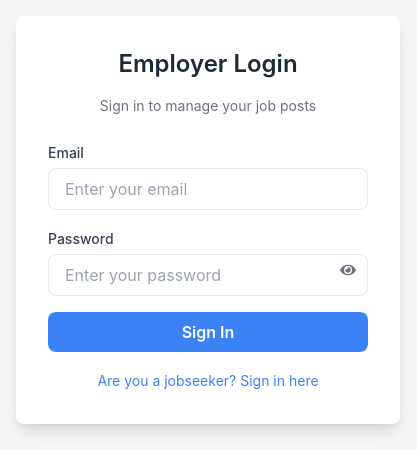
it: EmployerLogin Component › disables form inputs during loading state
Fill in the form
Type "employer@example.com" into the field with placeholder "Enter your email" at (208, 189), box [48,168,368,210]
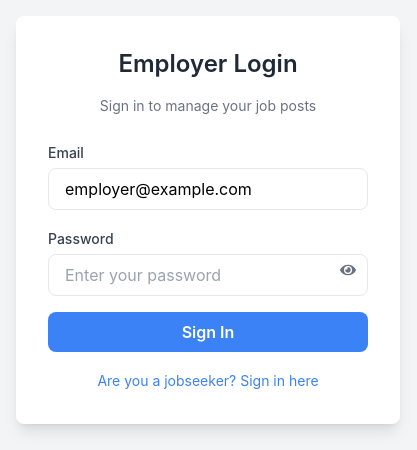
Type "Password123" into the password field with placeholder "Enter your password" at (208, 275), box [48,254,368,296]
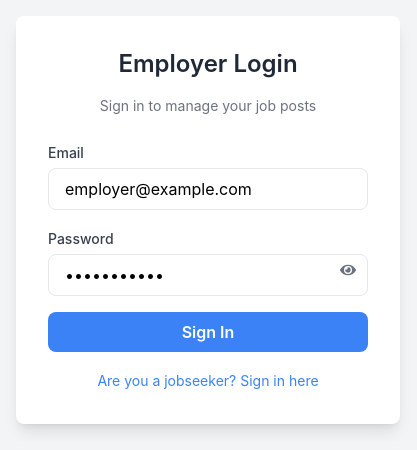
Submit the form
Click the button "Sign In" at (208, 332), box [48,312,368,352]
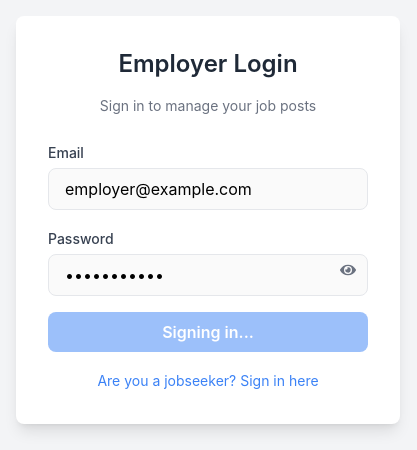
Expected: the field with placeholder "Enter your email" is disabled, [48,168,368,210]
Now the button "Signing in..." is disabled, box [48,312,368,352]
